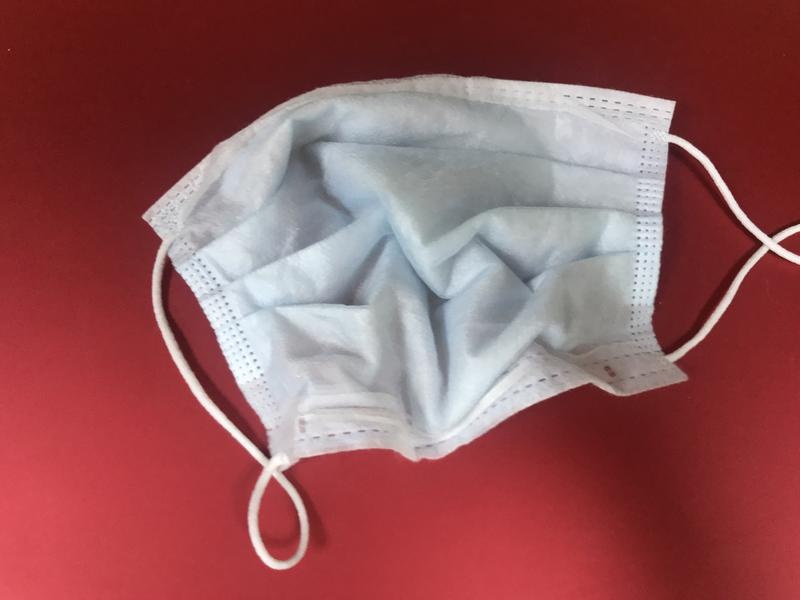medical_mask: (145, 77, 800, 570)
